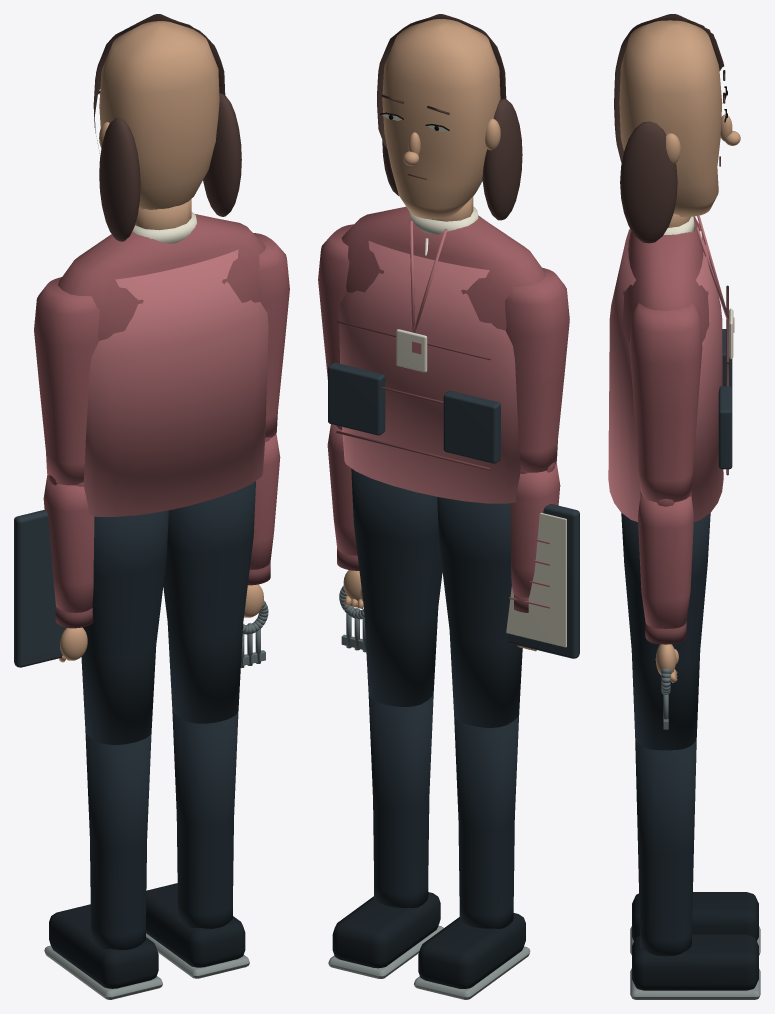
The model's file is npc_dorm.glb.
3 views of the same model, side by side, from view 1: azimuth 30°, elevation 25°; view 2: azimuth 150°, elevation 25°; view 3: azimuth 270°, elevation 25° (orthographic).
Parts seen in each view (by area): view 1: IDPhoto, TrouserThigh.001, AdultFace, TrouserThigh, Knee.001, Knee, QuietClothTorso, Sleeve, BobSide, Clipboard, ElbowTransition, OrdinaryShoe (+10 smaller); view 2: IDPhoto, AdultFace, TrouserThigh.001, TrouserThigh, Knee, Knee.001, QuietClothTorso, Sleeve, UtilityPocket, OrdinaryShoe.001, OrdinaryShoe, BobSide (+11 smaller); view 3: AdultFace, Sleeve.001, IDPhoto, Knee.001, TrouserThigh.001, BobSide, ElbowTransition.001, OrdinaryShoe.001, QuietClothTorso, OrdinaryShoe, UtilityPocket, ShoeSole.001 (+4 smaller).
Part boxes in pixels (box(x1,y1,x2,y2)): IDPhoto: box(83, 249, 268, 516); TrouserThigh.001: box(163, 481, 255, 723); AdultFace: box(99, 21, 219, 209); TrouserThigh: box(81, 510, 168, 744); Knee.001: box(172, 710, 238, 928); Knee: box(85, 731, 151, 949); QuietClothTorso: box(58, 214, 265, 515); Sleeve: box(34, 277, 99, 485); BobSide: box(93, 14, 241, 241); Clipboard: box(14, 509, 82, 667); ElbowTransition: box(43, 475, 94, 612); OrdinaryShoe: box(49, 904, 158, 988); IDPhoto: box(339, 220, 520, 503); AdultFace: box(382, 19, 500, 219); TrouserThigh.001: box(351, 468, 442, 706); TrouserThigh: box(437, 497, 522, 727); Knee: box(454, 714, 519, 928); Knee.001: box(368, 694, 433, 907); QuietClothTorso: box(341, 206, 546, 330); Sleeve: box(505, 267, 569, 472); UtilityPocket: box(328, 362, 500, 463); OrdinaryShoe.001: box(332, 892, 440, 968); OrdinaryShoe: box(418, 913, 525, 988); BobSide: box(377, 14, 522, 220); AdultFace: box(619, 20, 740, 216); Sleeve.001: box(629, 303, 702, 501); IDPhoto: box(608, 215, 734, 521); Knee.001: box(635, 737, 696, 956); TrouserThigh.001: box(621, 513, 710, 750); BobSide: box(614, 14, 725, 243); ElbowTransition.001: box(638, 491, 693, 628); OrdinaryShoe.001: box(632, 934, 758, 990); QuietClothTorso: box(622, 216, 709, 342); OrdinaryShoe: box(632, 892, 758, 940); UtilityPocket: box(718, 329, 732, 469); ShoeSole.001: box(630, 968, 760, 999).
Bounding box in the file's own units: 0.442 × 1.53 × 0.222.
